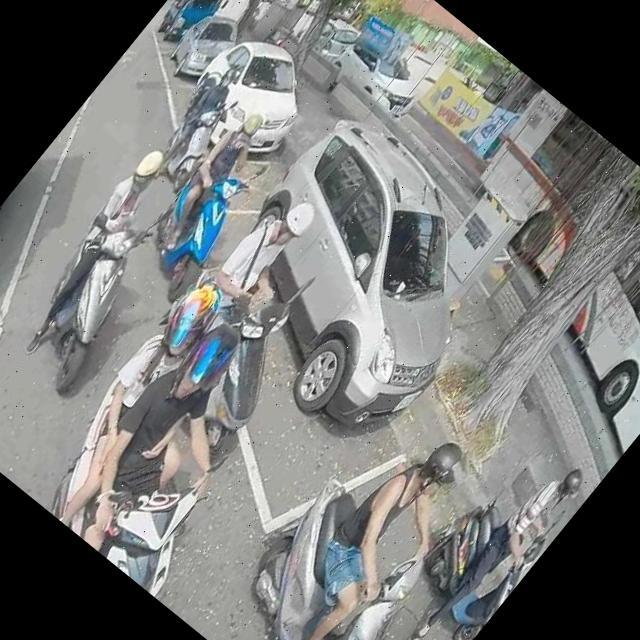person: (25, 266, 286, 556), (44, 311, 306, 591), (252, 412, 502, 640), (2, 140, 195, 362), (396, 444, 599, 640), (185, 182, 334, 348), (147, 99, 293, 264), (144, 63, 248, 180)
